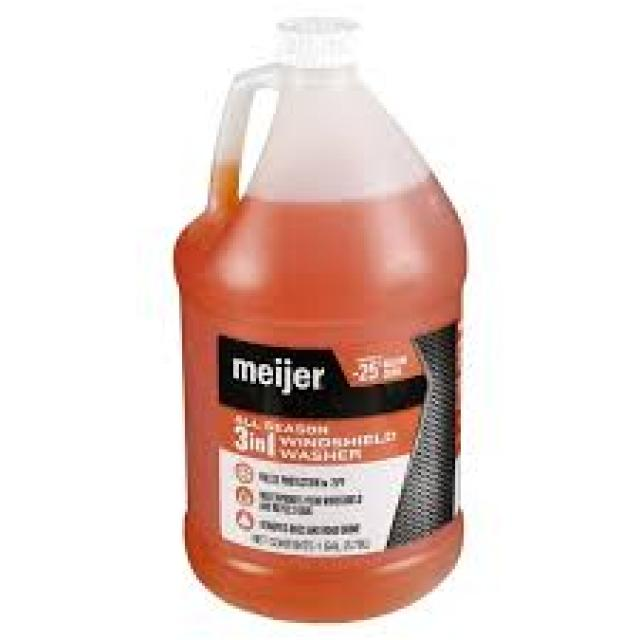winwinshield_washer: (164, 11, 502, 630)
